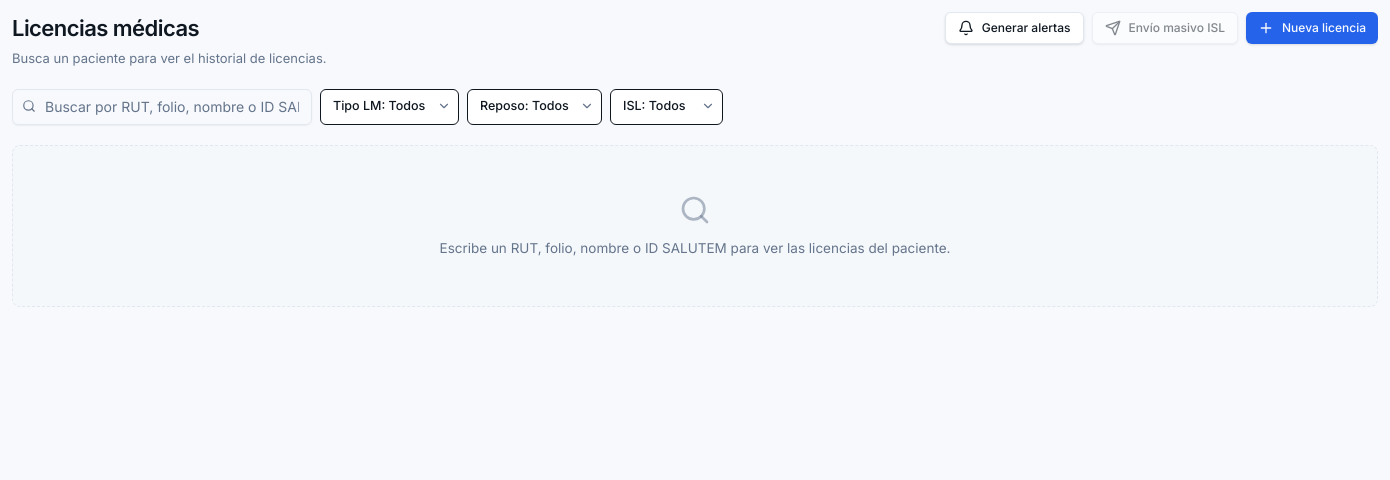
LicenciasPage › muestra Folio LM, Reposo, GAF e ISL desde el listado sin pedir detalle
Type "FOLIO-001" into the field with placeholder "Buscar por RUT, folio, nombre o ID SALUTEM".
click(162, 106); type("FOLIO-001")  # box [12,88,312,124]
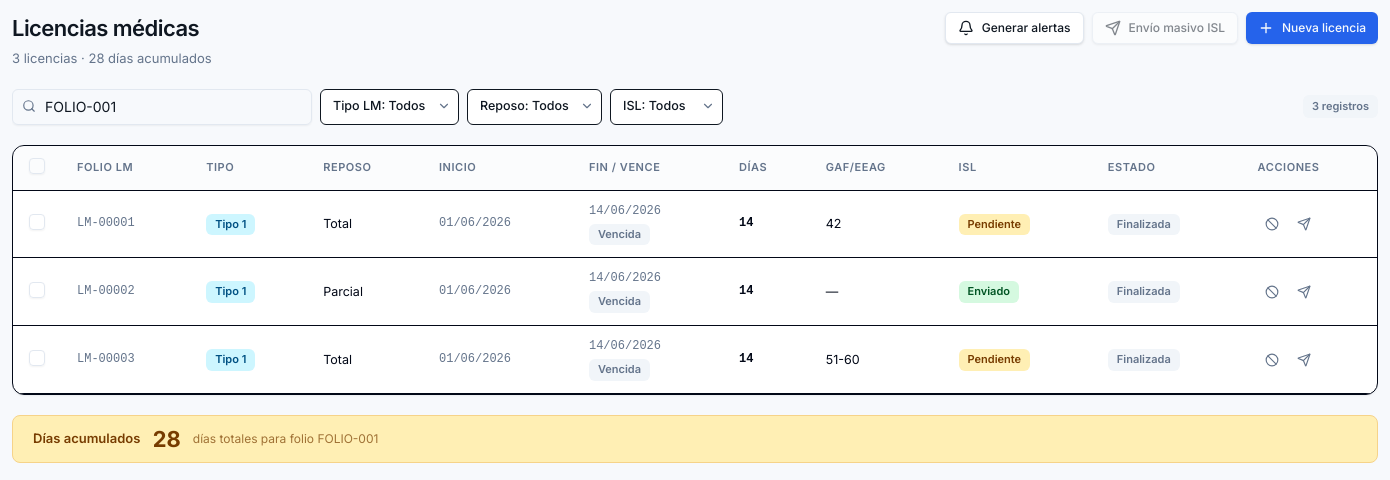
Now the text "LM-00001" is shown, box [61,190,190,258]
Now the text "LM-00002" is shown, box [61,258,190,326]
Now the text "42" is shown, box [810,190,943,258]
# Filtro Reposo exacto desde el primer render: solo queda la parcial.
Select "Parcial" in the 2nd dropdown showing "Reposo: Todos" at x=534, y=106, box [467,88,602,124]
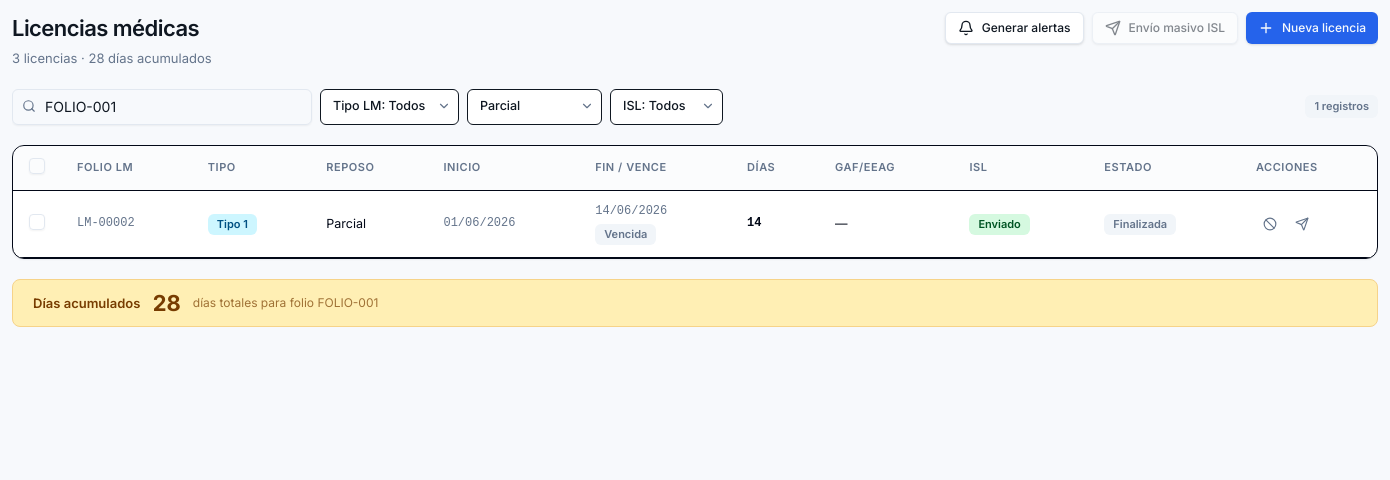
Now the text "LM-00002" is shown, box [61,190,192,258]
Now the text "LM-00001" is gone
# Filtro ISL: pendiente excluye la enviada.
Select "Reposo: Todos" in the 2nd dropdown showing "Reposo: Todos" at x=534, y=106, box [467,88,602,124]
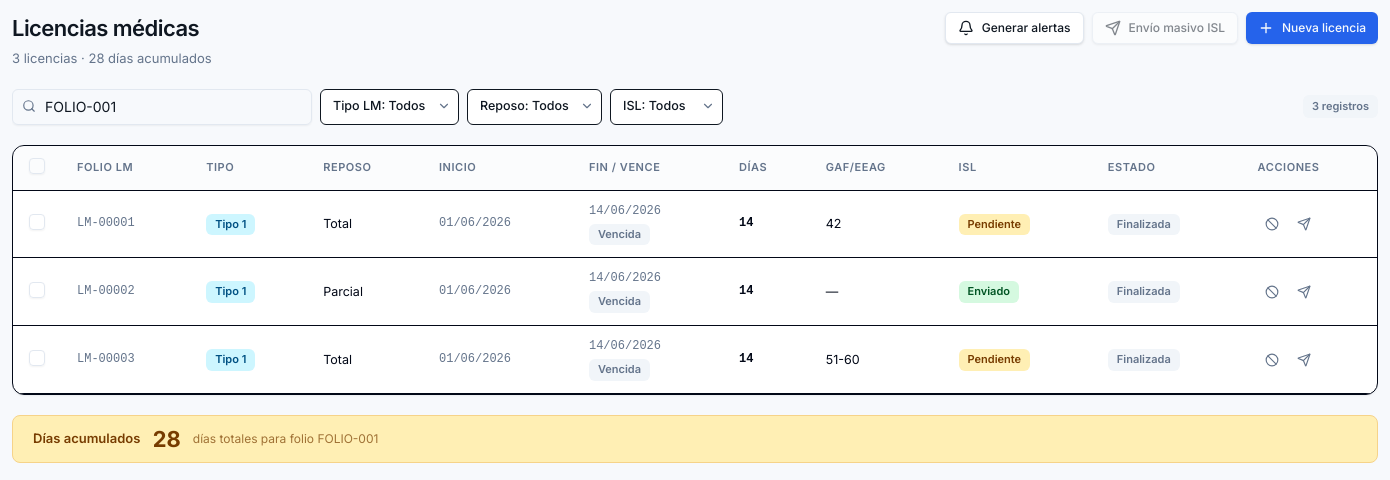
Select "Pendiente" in the 3rd dropdown showing "ISL: Todos" at x=666, y=106, box [610,88,723,124]
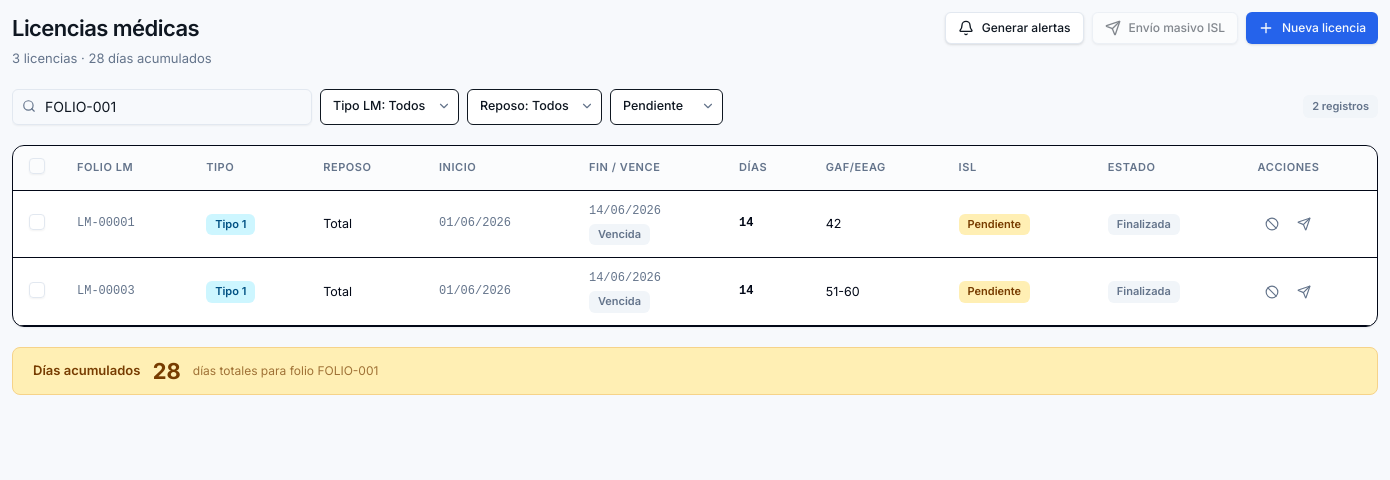
Now the text "LM-00001" is shown, box [61,190,190,258]
Now the text "LM-00002" is gone
